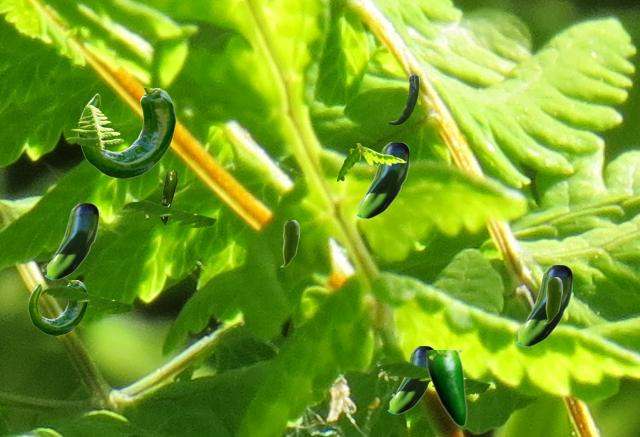green_chili: (78, 88, 175, 177), (515, 265, 571, 346), (44, 203, 97, 279), (355, 142, 408, 218), (28, 280, 87, 334), (387, 346, 434, 413), (426, 350, 466, 426), (387, 74, 418, 124), (160, 170, 176, 224), (280, 220, 298, 266), (543, 277, 561, 323)
